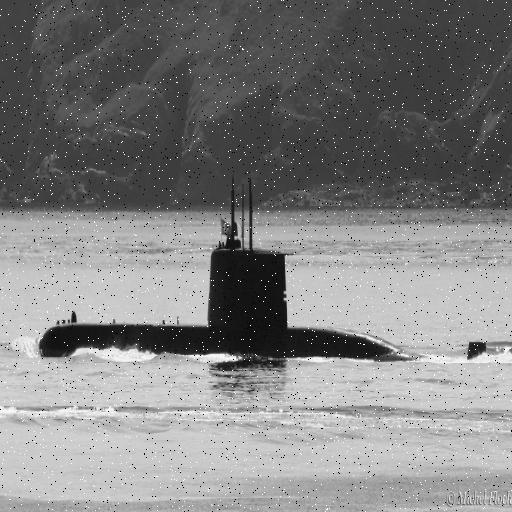submarine: (40, 247, 488, 358)
